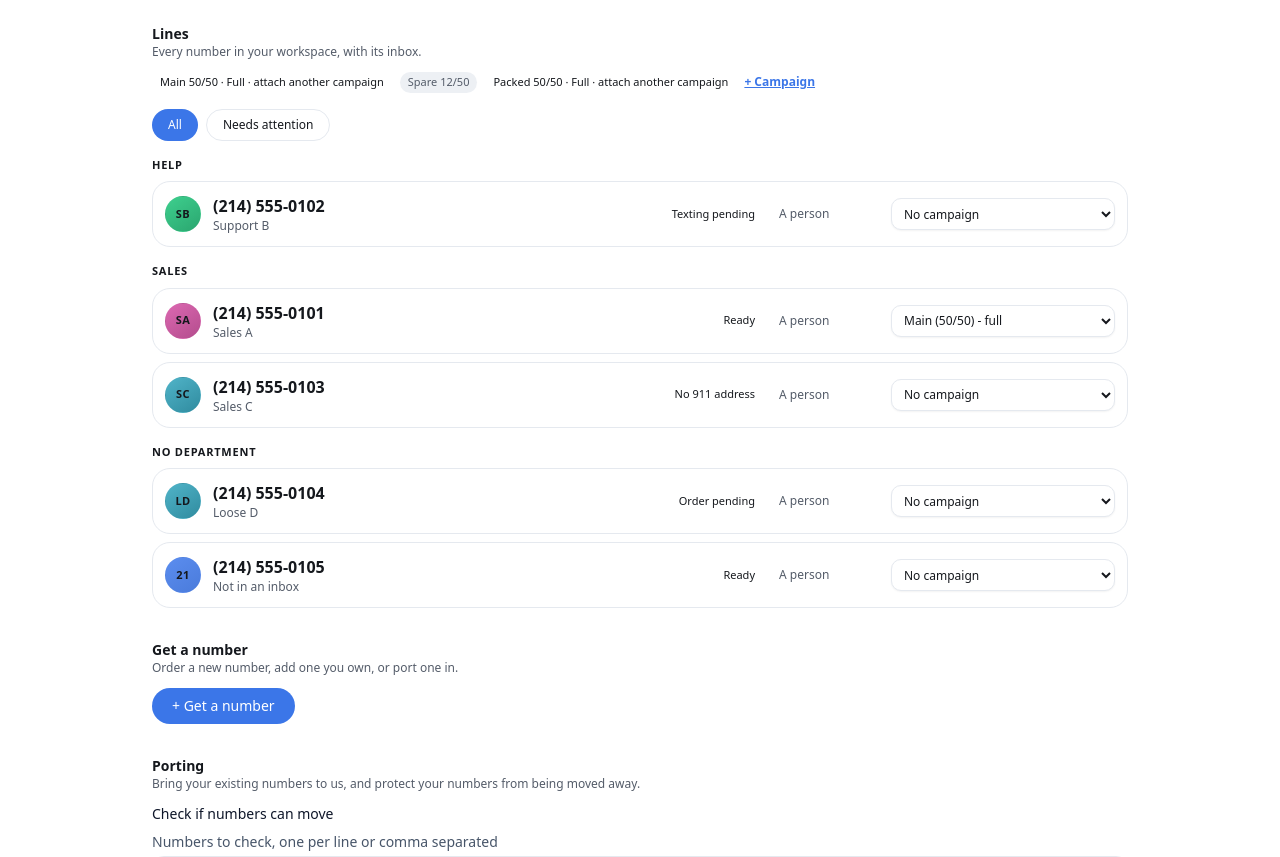
Test: LinesPage › shows the 409 campaign_full message
This screenshot has width=1280, height=857.
Check: the text "Support B" is shown, box [213,217,269,234]
Select "Spare (12/50)" in the dropdown named "Campaign for +12145550102" at coordinates (1003, 214), box [891,198,1115,230]
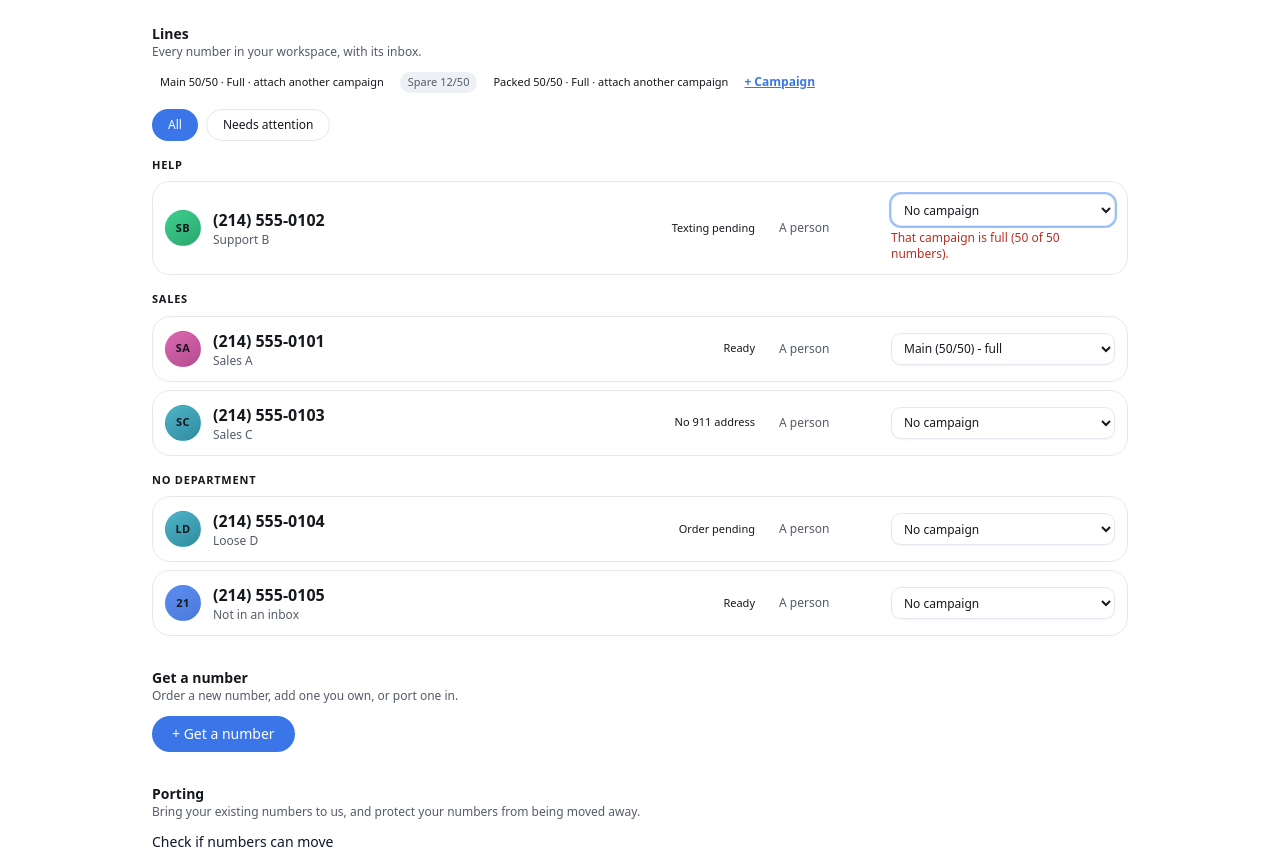
Check: the text "That campaign is full (50 of 50 numbers)." is shown, box [891,229,1060,262]
